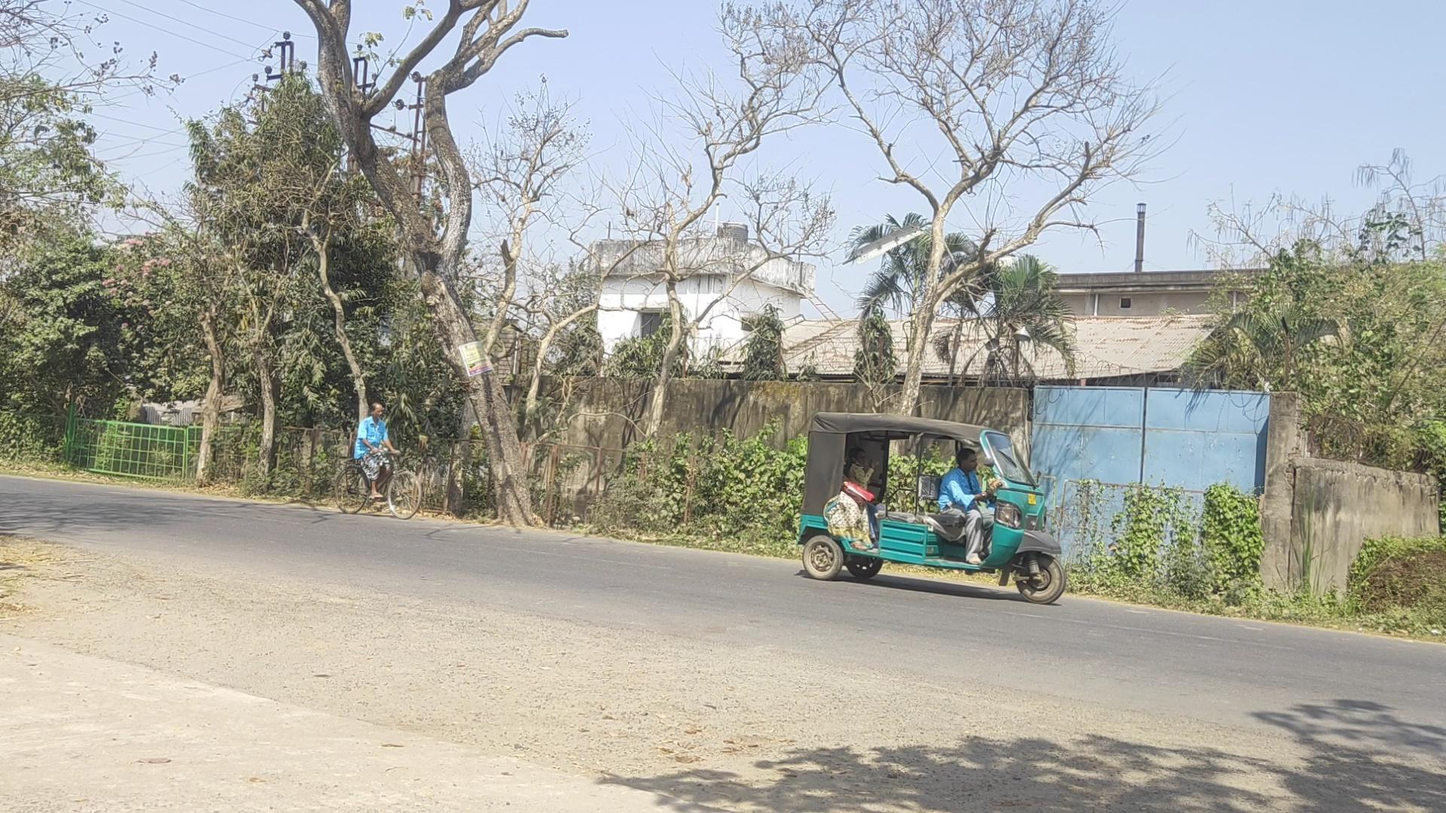Auto: (795, 412, 1066, 604)
bike: (334, 402, 422, 519)
